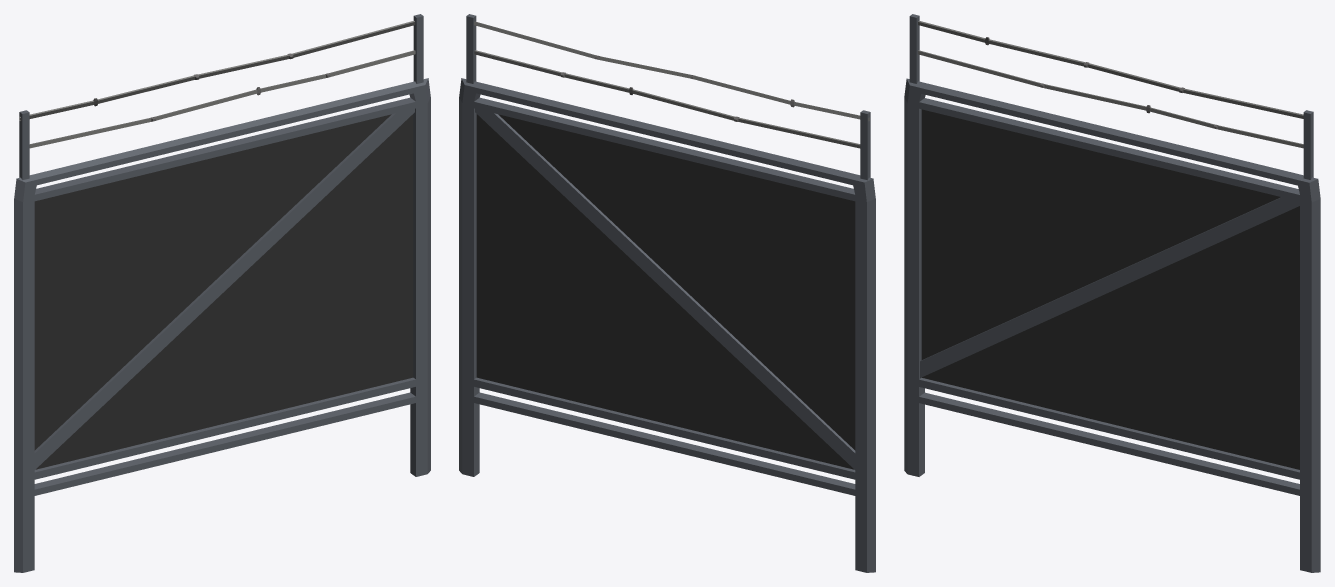
Rendered from SM_Prop_Fence_02.fbx.
The picture shows the model from 3 angles, left to right: view 1: azimuth 30°, elevation 25°; view 2: azimuth 150°, elevation 25°; view 3: azimuth 330°, elevation 25°; orthographic projection.
Visible parts, largest first — view 1: SM_Prop_Fence_02; view 2: SM_Prop_Fence_02; view 3: SM_Prop_Fence_02.
Part boxes in pixels (box(x1,y1,x2,y2)): SM_Prop_Fence_02: box(14, 14, 430, 572); SM_Prop_Fence_02: box(459, 14, 875, 572); SM_Prop_Fence_02: box(904, 14, 1320, 572).
Bounding box in the file's own units: 303 × 319 × 7.24.
